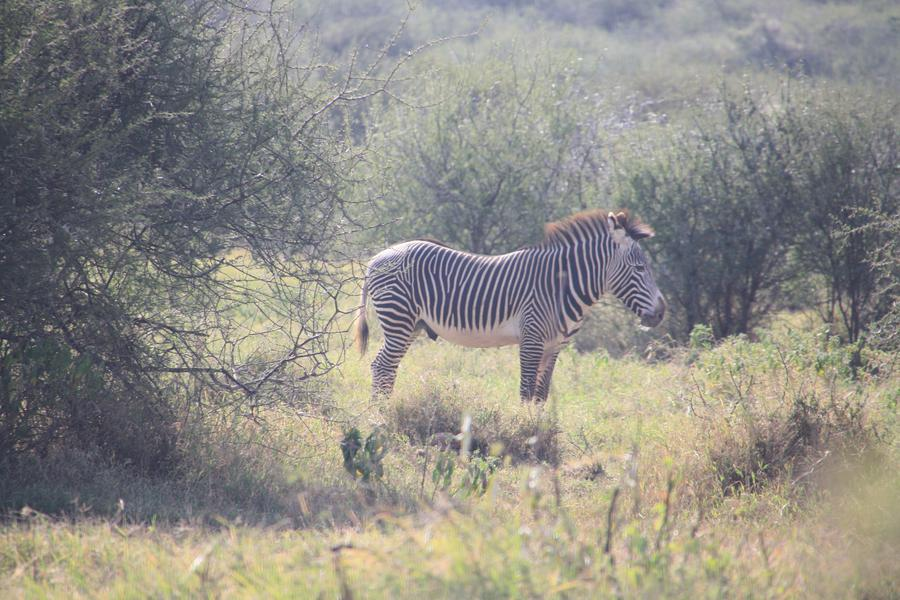zebra_grevys: (374, 237, 559, 347)
